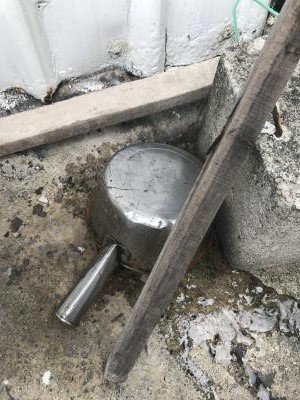bowl: (82, 137, 203, 274)
